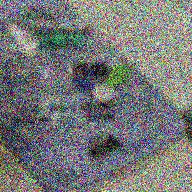러키펜정: (92, 85, 115, 102)
씨엠지세파클러캡슐: (65, 62, 96, 92)
에르도캡슐: (38, 32, 85, 46)
휴티렌정: (106, 64, 130, 88)
